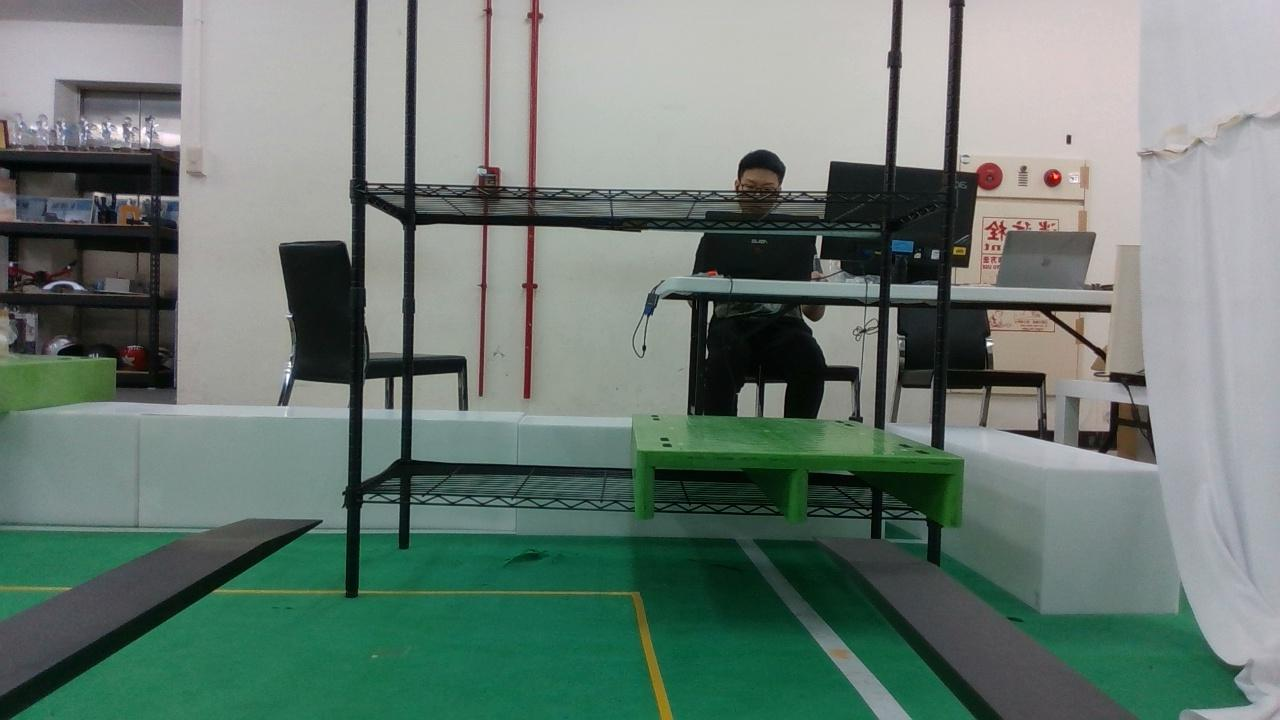Pallet: (634, 448, 967, 530)
